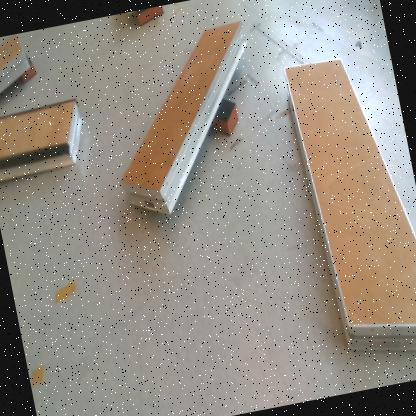Stairs: (284, 57, 416, 355), (122, 21, 248, 219), (1, 97, 85, 181), (1, 35, 31, 93)
